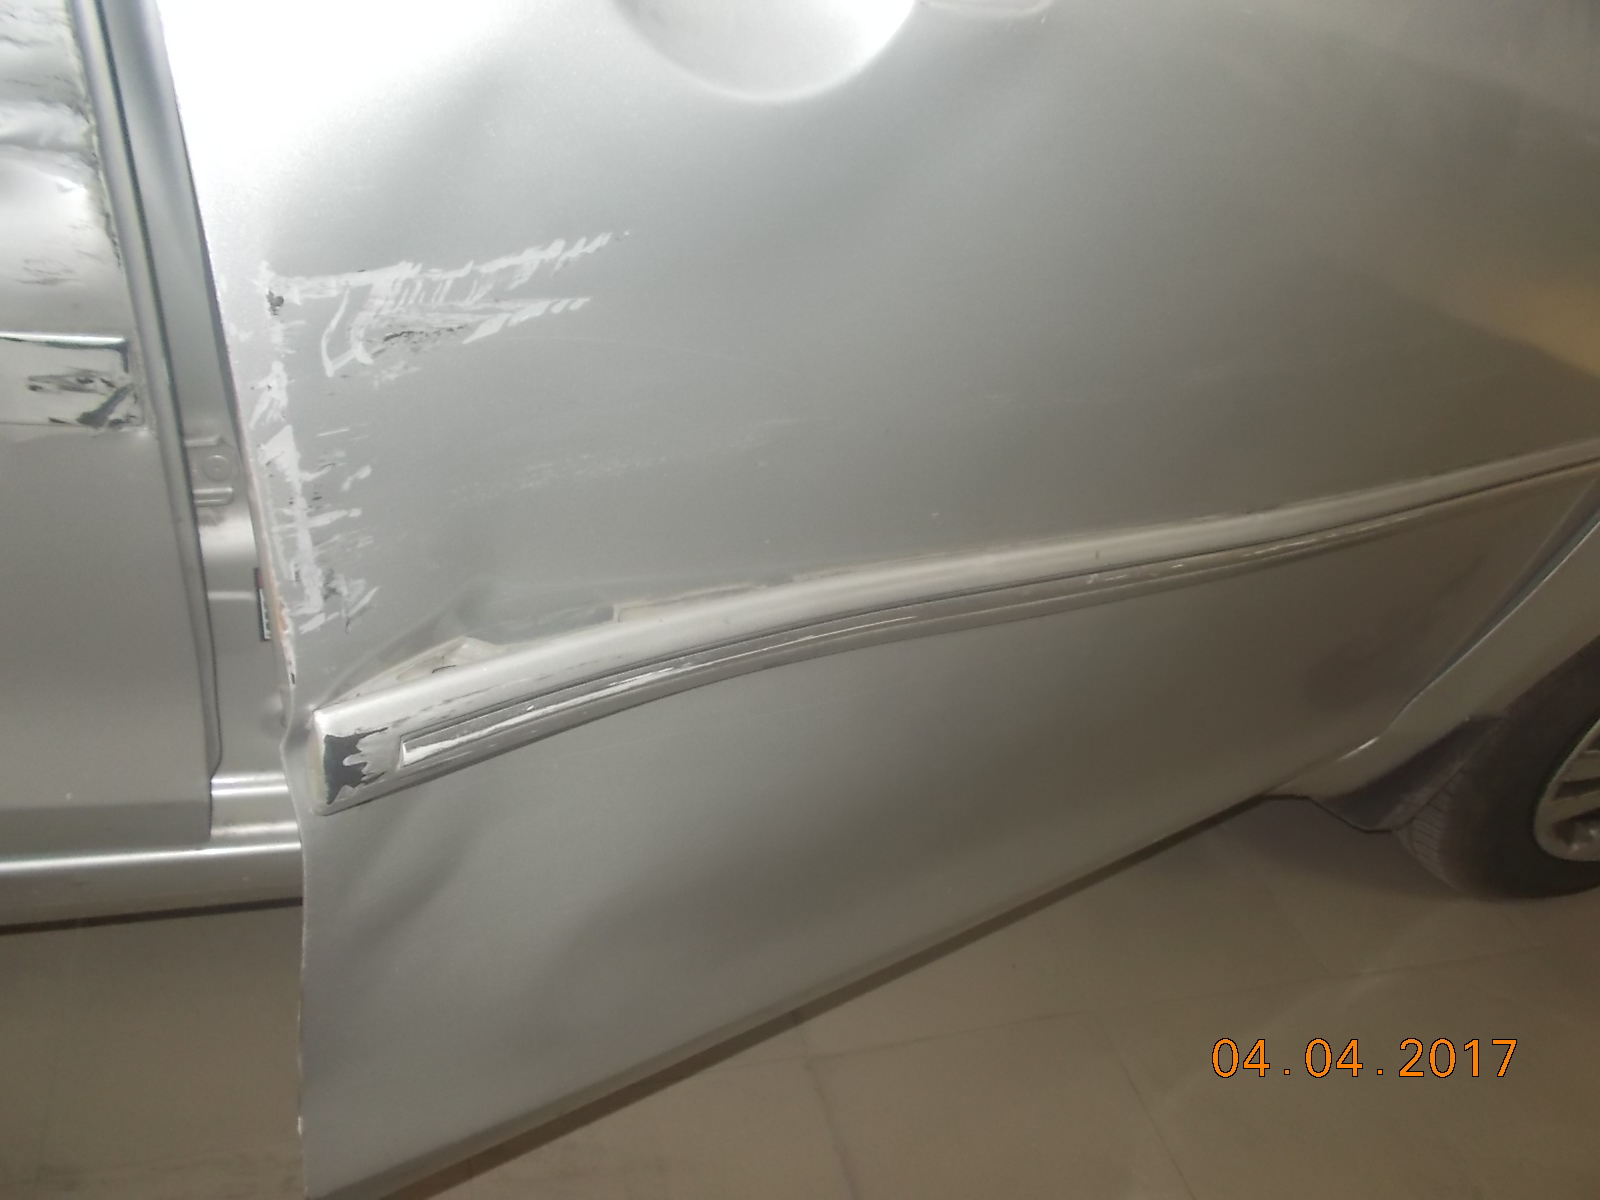Scratch_or_spot: (270, 246, 607, 396), (260, 437, 324, 618)
